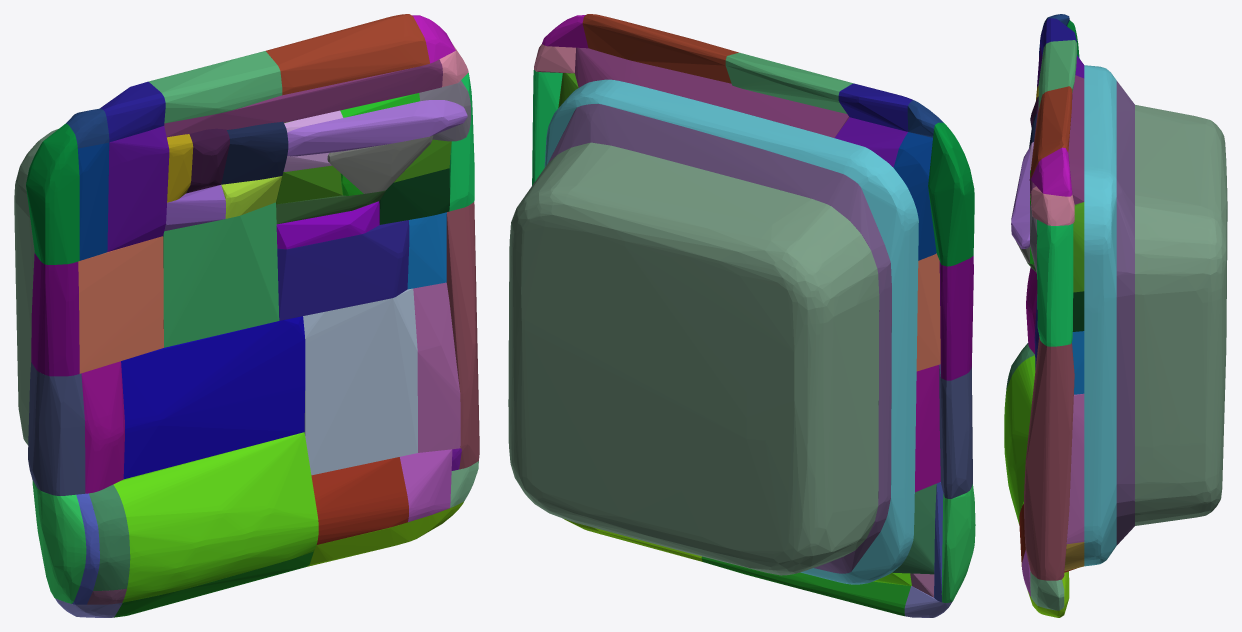
The model's file is coacd_collision.obj.
The picture shows the model from 3 angles, left to right: view 1: azimuth 30°, elevation 25°; view 2: azimuth 150°, elevation 25°; view 3: azimuth 270°, elevation 25°; orthographic projection. The views are drawn at different scales.
Parts seen in each view (by area): view 1: geometry_17, geometry_5, geometry_6, geometry_10, geometry_9, geometry_18, geometry_31, geometry_28, geometry_16, geometry_7, geometry_27, geometry_13 (+35 smaller); view 2: geometry_0, geometry_2, geometry_1, geometry_28, geometry_31, geometry_33, geometry_3, geometry_16, geometry_11, geometry_8, geometry_36, geometry_14 (+12 smaller); view 3: geometry_0, geometry_2, geometry_13, geometry_1, geometry_23, geometry_17, geometry_31, geometry_7, geometry_28, geometry_3, geometry_22, geometry_24 (+11 smaller).
Part boxes in pixels (bbox=[...]): geometry_17: bbox=[113, 432, 318, 602]; geometry_5: bbox=[121, 316, 305, 479]; geometry_6: bbox=[303, 288, 417, 475]; geometry_10: bbox=[163, 202, 279, 347]; geometry_9: bbox=[78, 236, 163, 373]; geometry_18: bbox=[277, 220, 409, 320]; geometry_31: bbox=[266, 14, 429, 95]; geometry_28: bbox=[164, 59, 442, 137]; geometry_16: bbox=[28, 362, 85, 495]; geometry_7: bbox=[413, 282, 460, 452]; geometry_27: bbox=[107, 126, 169, 251]; geometry_13: bbox=[446, 202, 479, 469]; geometry_0: bbox=[508, 142, 879, 575]; geometry_2: bbox=[544, 79, 918, 584]; geometry_1: bbox=[548, 104, 891, 573]; geometry_28: bbox=[574, 47, 849, 137]; geometry_31: bbox=[582, 14, 738, 83]; geometry_33: bbox=[928, 122, 974, 266]; geometry_3: bbox=[725, 52, 853, 113]; geometry_16: bbox=[939, 364, 972, 498]; geometry_11: bbox=[939, 256, 973, 380]; geometry_8: bbox=[701, 556, 910, 616]; geometry_36: bbox=[941, 484, 975, 602]; geometry_14: bbox=[915, 365, 940, 492]; geometry_0: bbox=[1135, 105, 1227, 525]; geometry_2: bbox=[1084, 65, 1116, 566]; geometry_13: bbox=[1024, 336, 1074, 580]; geometry_1: bbox=[1116, 81, 1134, 545]; geometry_23: bbox=[1037, 219, 1073, 346]; geometry_17: bbox=[1004, 355, 1035, 524]; geometry_31: bbox=[1030, 86, 1072, 178]; geometry_7: bbox=[1066, 393, 1084, 544]; geometry_28: bbox=[1029, 75, 1084, 204]; geometry_3: bbox=[1038, 40, 1076, 109]; geometry_22: bbox=[1031, 147, 1072, 196]; geometry_24: bbox=[1030, 186, 1074, 225].
Size of the model in its own units: 166 by 189 by 80.49.
